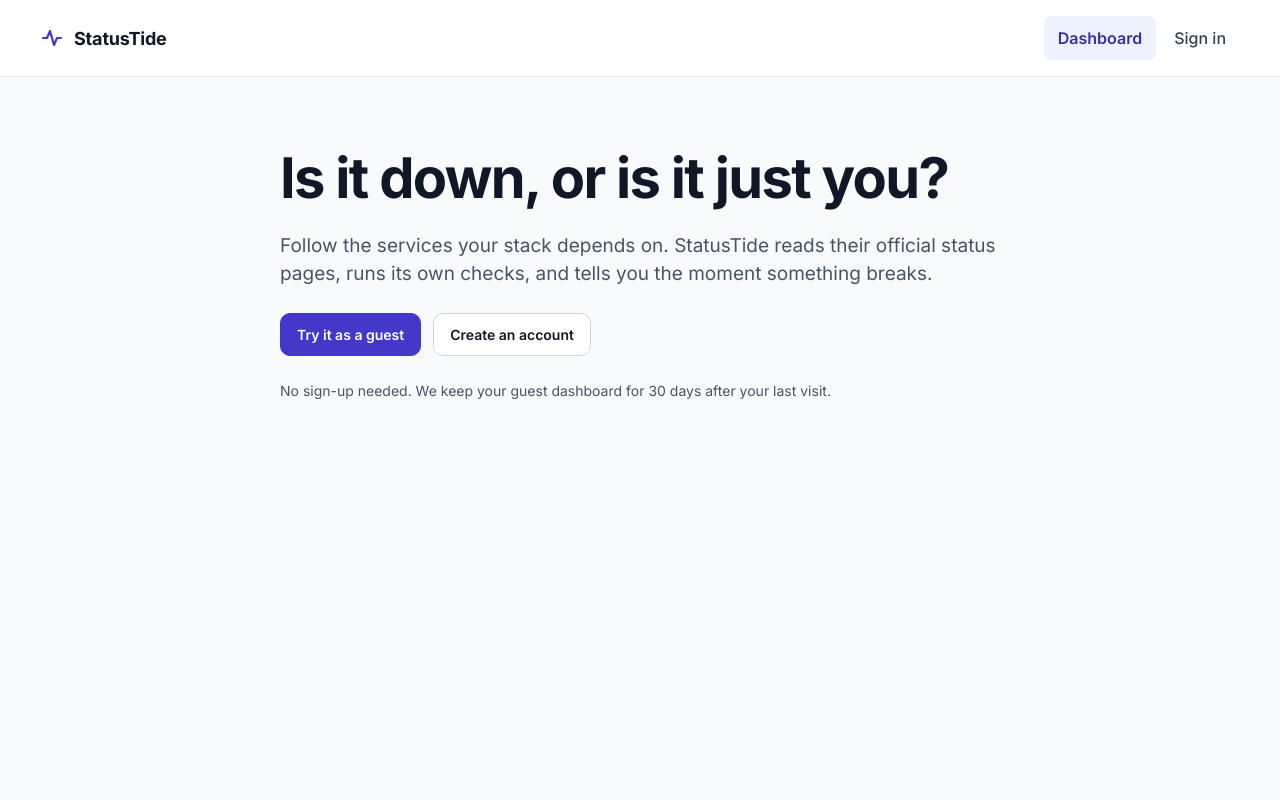
Test case: App › goes to the dashboard after starting a guest session
This screenshot has width=1280, height=800.
What coordinates should you click on to do the following:
click the button "Try it as a guest"
I would click on:
 (351, 334)
Its box is [280,313,421,356].
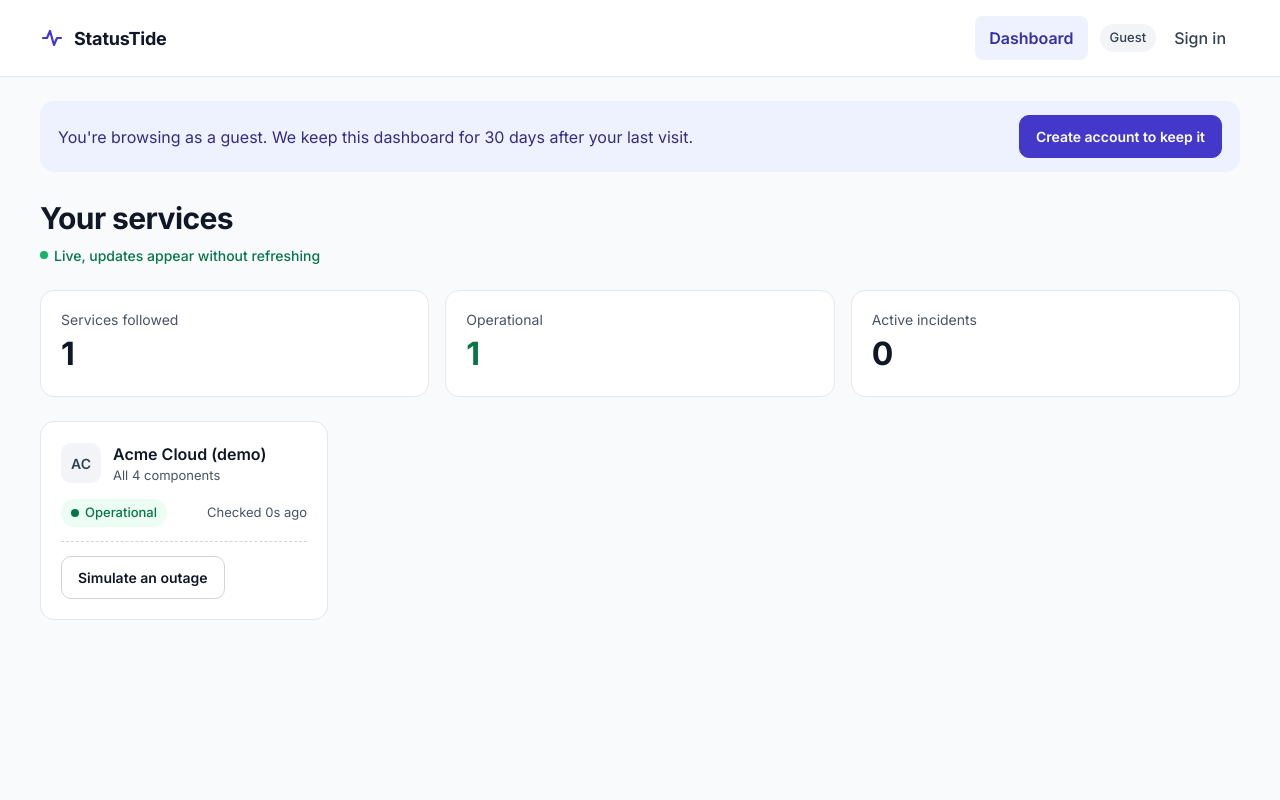
Expected: the button "Create account to keep it" is enabled, [1019,115,1222,158]
Expected: the element "Acme Cloud (demo)" is shown, [40,420,328,620]
Expected: the element named "Guest session" shows "We keep this dashboard for 30 days after your last visit.", [58,126,693,146]
